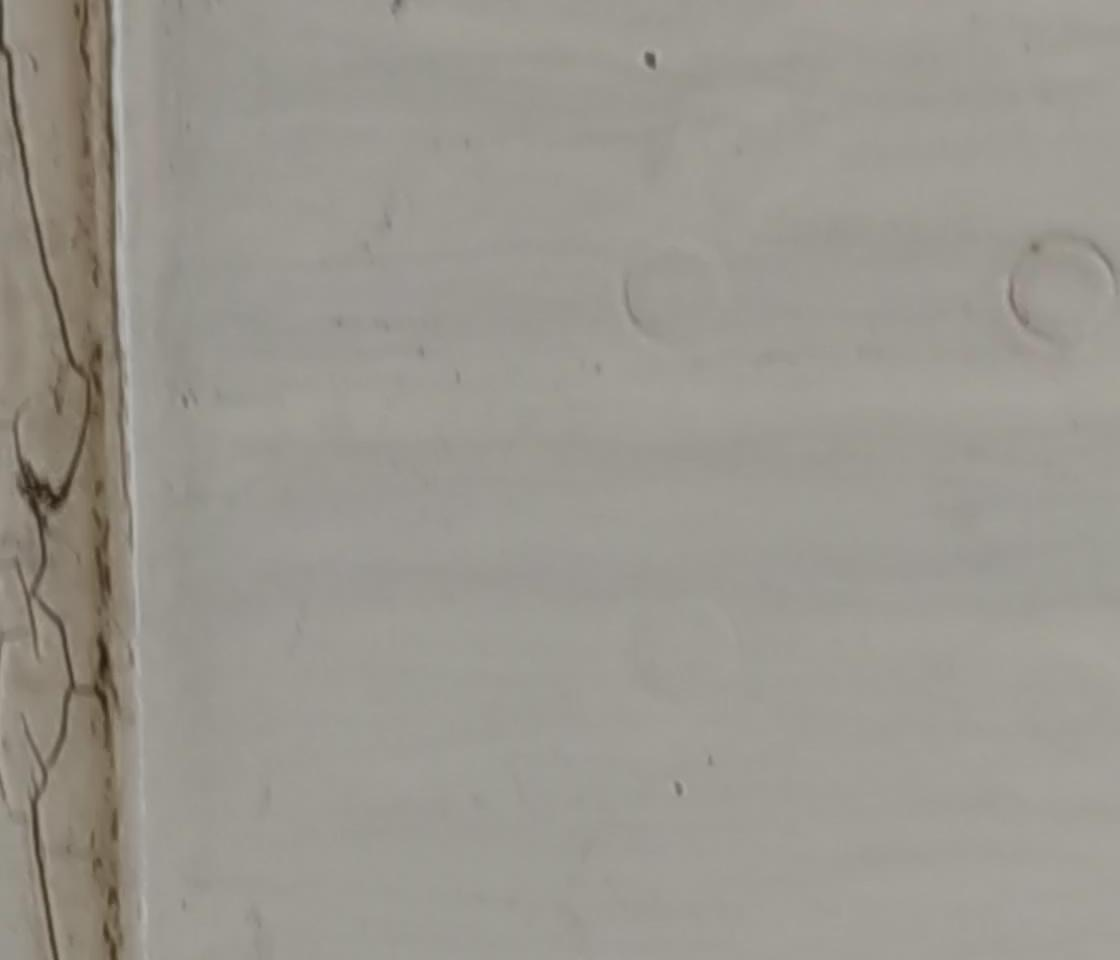scratch: (631, 43, 669, 76)
